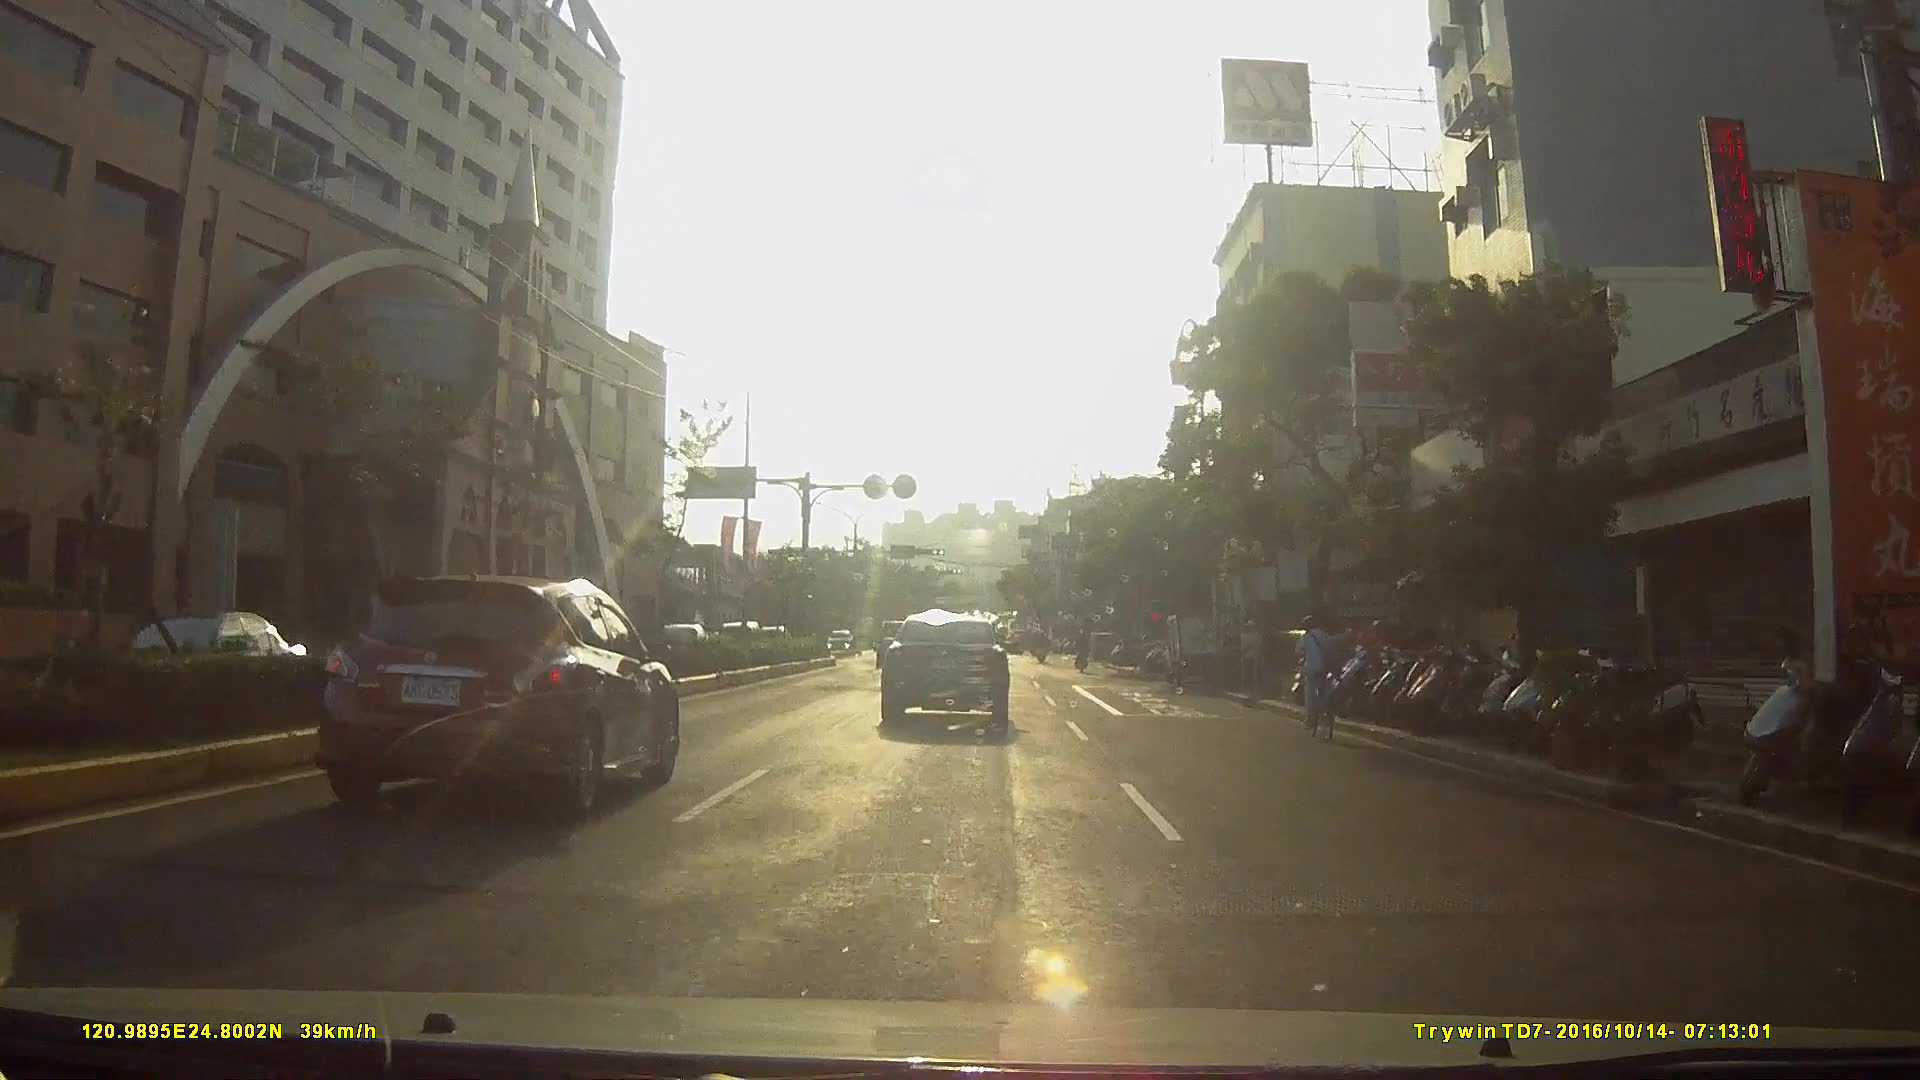pedestrian: (1245, 615, 1277, 699)
rider: (1291, 614, 1347, 742)
vehicle: (311, 567, 695, 818), (875, 610, 1021, 742), (1162, 606, 1241, 689), (763, 607, 822, 662)
